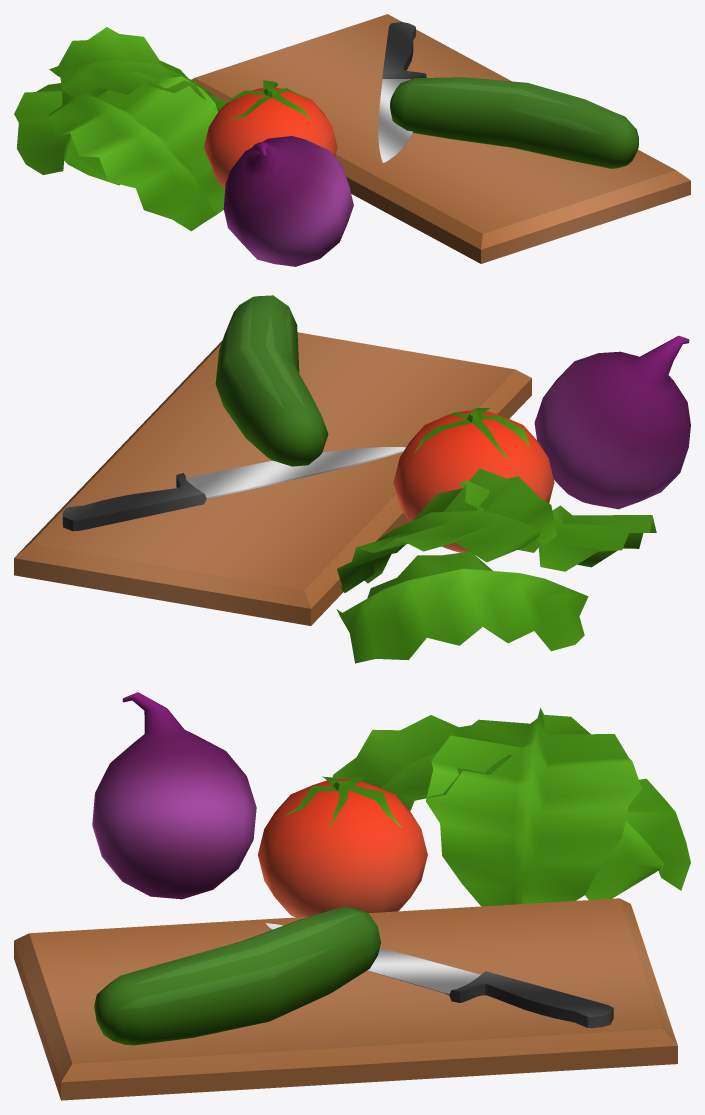
Rendered from Station Salad.fbx.
The picture shows the model from 3 angles, top to bottom: view 1: azimuth 30°, elevation 25°; view 2: azimuth 150°, elevation 25°; view 3: azimuth 270°, elevation 25°; orthographic projection. The views are drawn at different scales.
Parts seen in each view (by area): view 1: Station_Salad; view 2: Station_Salad; view 3: Station_Salad.
Boxes of the visible parts, x1,y1,x2,y2 form: Station_Salad: (14, 14, 690, 266); Station_Salad: (14, 295, 690, 663); Station_Salad: (14, 692, 690, 1100).
Size of the model in its own units: 181 by 50.69 by 175.
